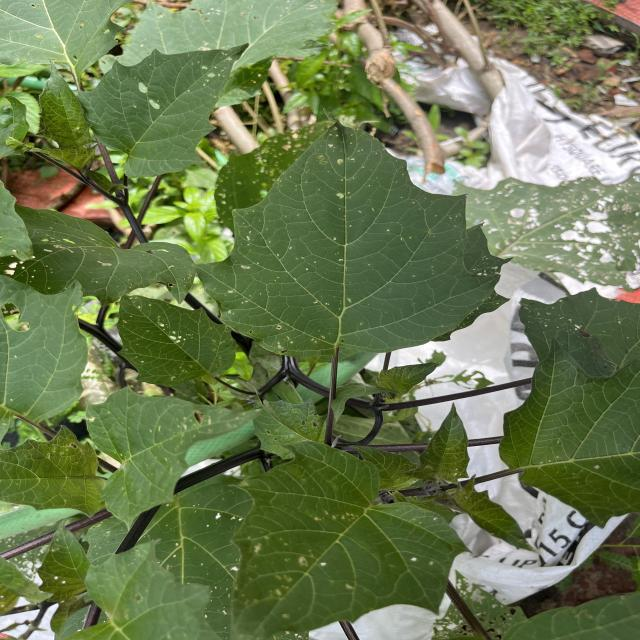Datura metal linn: (190, 102, 508, 367), (213, 431, 474, 640), (74, 41, 250, 180), (110, 288, 242, 393)
